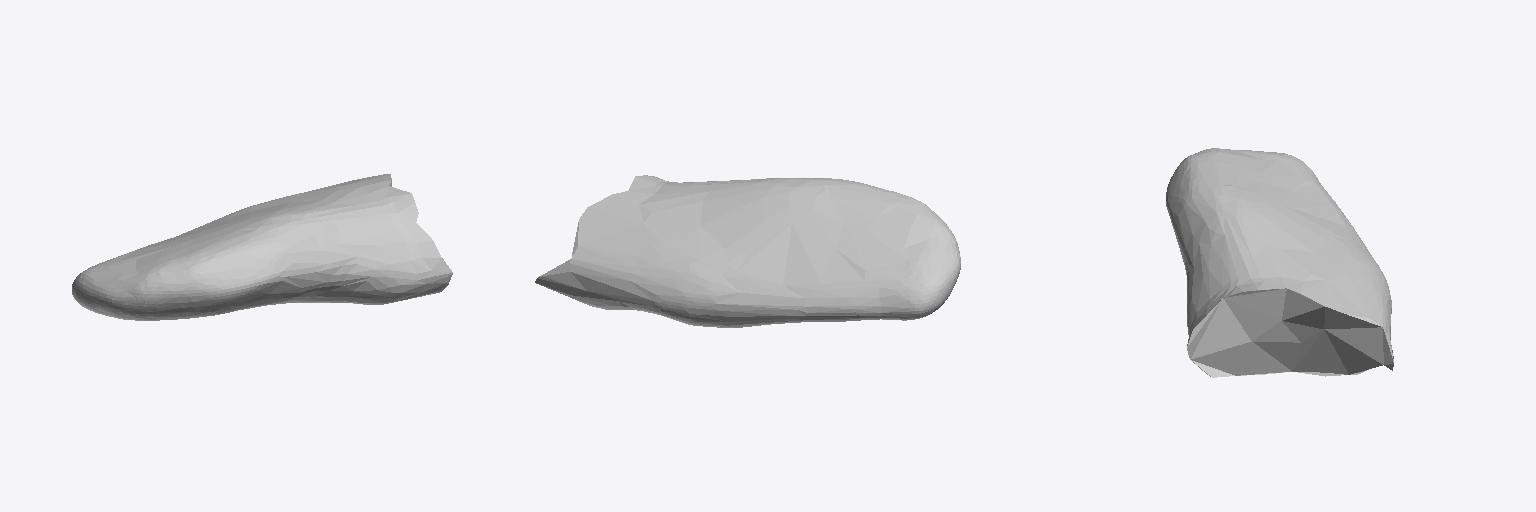
File: Right_thalamus1.obj
The picture shows the model from 3 angles: view 1: azimuth 30°, elevation 25°; view 2: azimuth 150°, elevation 25°; view 3: azimuth 270°, elevation 25°; orthographic projection.
Visible parts, largest first — view 1: obj0; view 2: obj0; view 3: obj0.
Part boxes in pixels (x1,y1,x2,y2): obj0: (72, 174, 452, 320); obj0: (535, 175, 960, 327); obj0: (1166, 148, 1393, 377).
Size of the model in its own units: 4.36 by 1.31 by 2.44.